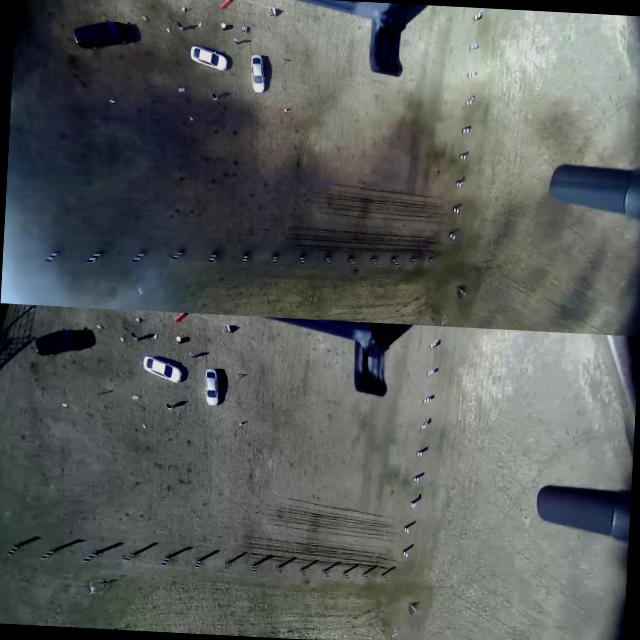car: (186, 36, 233, 78), (140, 348, 185, 386), (250, 53, 272, 94), (204, 367, 222, 408)
